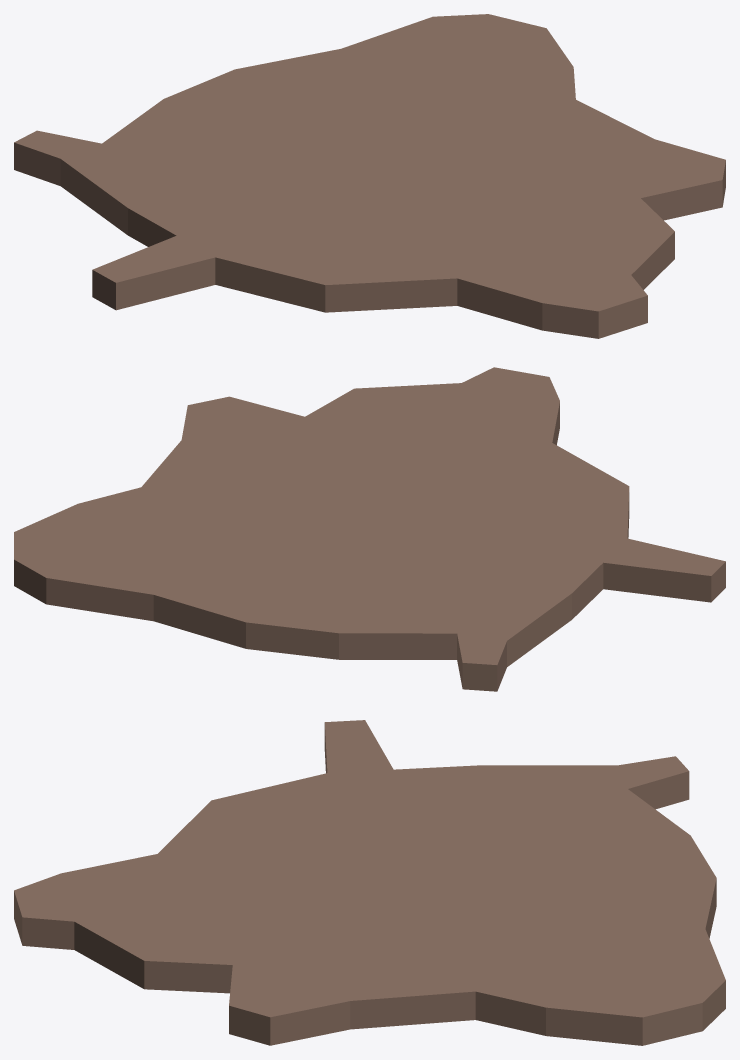
The model's file is SM_island06.fbx.
The picture shows the model from 3 angles, top to bottom: view 1: azimuth 30°, elevation 25°; view 2: azimuth 150°, elevation 25°; view 3: azimuth 270°, elevation 25°; orthographic projection. The views are drawn at different scales.
Visible parts, largest first — view 1: polySurface8; view 2: polySurface8; view 3: polySurface8.
Boxes of the visible parts, <box> form: polySurface8: <box>14,14,725,338</box>; polySurface8: <box>14,367,725,691</box>; polySurface8: <box>14,720,725,1045</box>.
Bounding box in the file's own units: 3574 × 159 × 3615.
